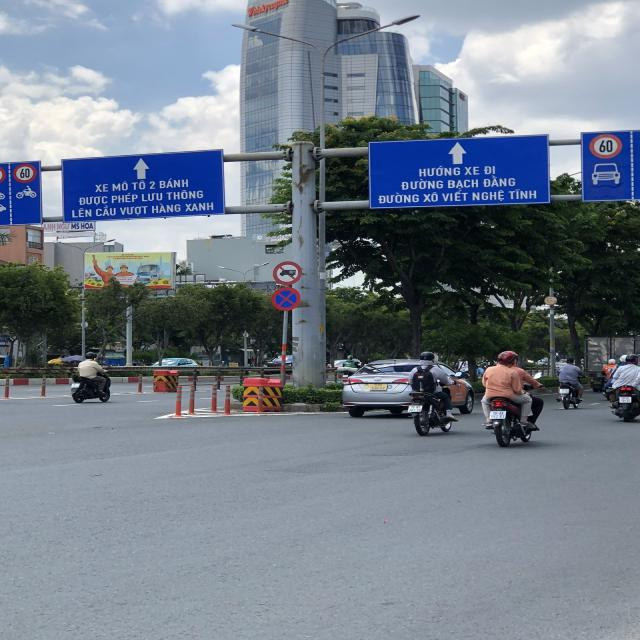Bien bao cam dung xe va do xe: (271, 286, 302, 310)
Bien bao cam xe oto tai: (268, 258, 304, 285)
Bien bao toc do toi da cho phep: (585, 129, 628, 159), (10, 160, 40, 183)
